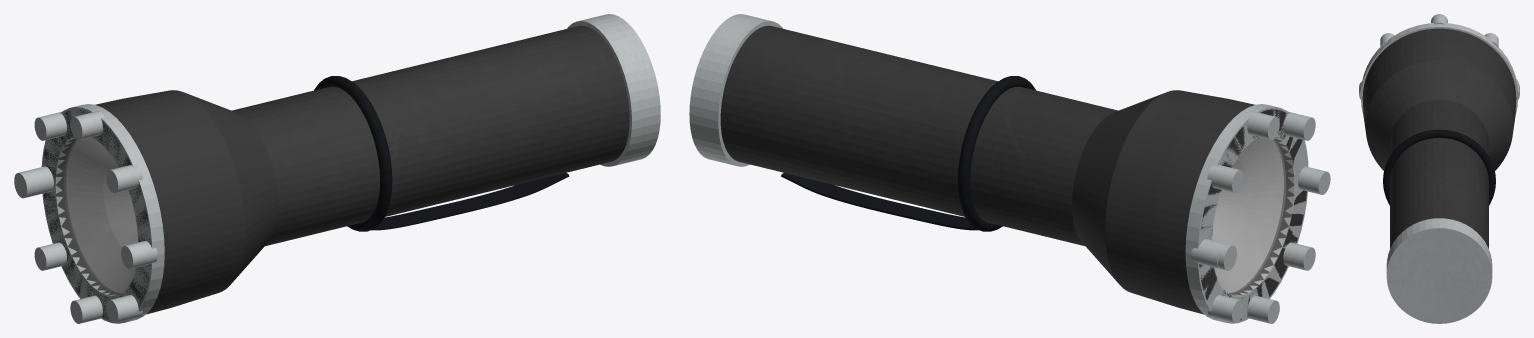
Rendered from Technology_Flashlight__0634.glb.
The picture shows the model from 3 angles, left to right: view 1: azimuth 30°, elevation 25°; view 2: azimuth 150°, elevation 25°; view 3: azimuth 270°, elevation 25°; orthographic projection. The views are drawn at different scales.
Visible parts, largest first — view 1: body::barrel_shell, focus_head::head_shell, focus_head::lens_disc, focus_head::front_bezel_ring, focus_head::reflector, body::shoulder_shell, body::tail_cap, body::pocket_clip, body::clip_mount, focus_head::bezel_marker, focus_head::bezel_tooth_3, focus_head::bezel_tooth_4 (+5 smaller); view 2: body::barrel_shell, focus_head::head_shell, focus_head::lens_disc, focus_head::reflector, focus_head::front_bezel_ring, body::shoulder_shell, body::tail_cap, body::pocket_clip, body::clip_mount, focus_head::bezel_tooth_1, focus_head::bezel_tooth_2, focus_head::bezel_tooth_7 (+6 smaller); view 3: body::barrel_shell, body::tail_cap, body::shoulder_shell, focus_head::head_shell, body::clip_mount, focus_head::front_bezel_ring, focus_head::bezel_tooth_2.
Boxes of the visible parts, left/top/right/bottom form: body::barrel_shell: left=232, top=25, right=629, bottom=246; focus_head::head_shell: left=43, top=90, right=244, bottom=320; focus_head::lens_disc: left=55, top=136, right=138, bottom=296; focus_head::front_bezel_ring: left=41, top=104, right=164, bottom=323; focus_head::reflector: left=66, top=137, right=137, bottom=292; body::shoulder_shell: left=186, top=93, right=278, bottom=282; body::tail_cap: left=567, top=14, right=660, bottom=166; body::pocket_clip: left=371, top=173, right=569, bottom=230; body::clip_mount: left=314, top=76, right=392, bottom=231; focus_head::bezel_marker: left=14, top=166, right=53, bottom=198; focus_head::bezel_tooth_3: left=106, top=165, right=142, bottom=193; focus_head::bezel_tooth_4: left=121, top=241, right=157, bottom=269; body::barrel_shell: left=720, top=25, right=1117, bottom=245; focus_head::head_shell: left=1105, top=90, right=1306, bottom=320; focus_head::lens_disc: left=1212, top=136, right=1294, bottom=296; focus_head::reflector: left=1212, top=137, right=1283, bottom=292; focus_head::front_bezel_ring: left=1185, top=104, right=1308, bottom=323; body::shoulder_shell: left=1072, top=90, right=1177, bottom=283; body::tail_cap: left=689, top=14, right=782, bottom=166; body::pocket_clip: left=781, top=173, right=978, bottom=230; body::clip_mount: left=958, top=76, right=1036, bottom=231; focus_head::bezel_tooth_1: left=1207, top=165, right=1243, bottom=193; focus_head::bezel_tooth_2: left=1245, top=111, right=1279, bottom=140; focus_head::bezel_tooth_7: left=1207, top=295, right=1243, bottom=323; body::barrel_shell: left=1390, top=99, right=1488, bottom=248; body::tail_cap: left=1386, top=218, right=1492, bottom=323; body::shoulder_shell: left=1365, top=60, right=1513, bottom=170; focus_head::head_shell: left=1362, top=28, right=1516, bottom=155; body::clip_mount: left=1383, top=129, right=1495, bottom=205; focus_head::front_bezel_ring: left=1361, top=23, right=1517, bottom=115; focus_head::bezel_tooth_2: left=1431, top=14, right=1447, bottom=24.
Bounding box in the file's own units: 0.2691 × 0.0955 × 0.0955.
6 materials, 5 textured.
